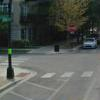Crosswalk: (29, 63, 98, 90)
